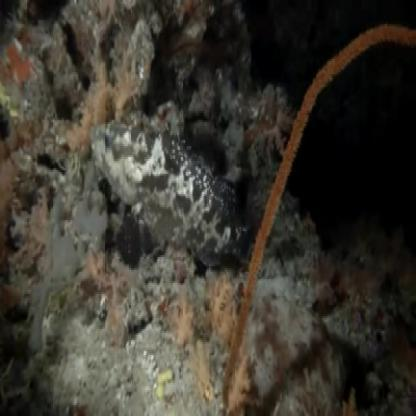Bio: (87, 116, 255, 272)
